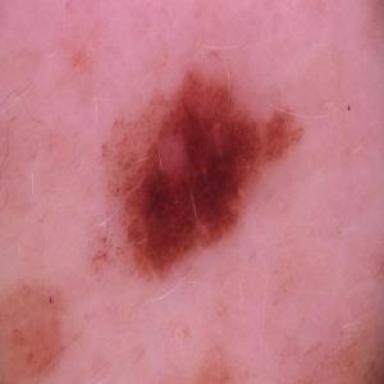Melanoma: (103, 67, 303, 274)
